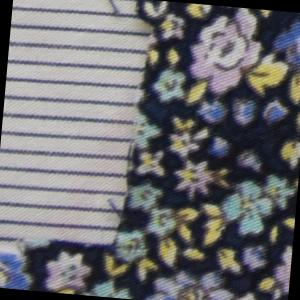Damage: (1, 1, 169, 275)
